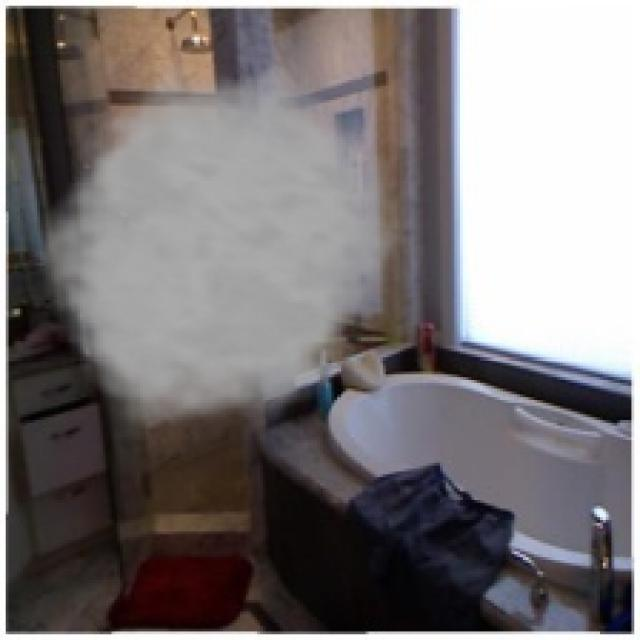smoke: (26, 63, 414, 443)
